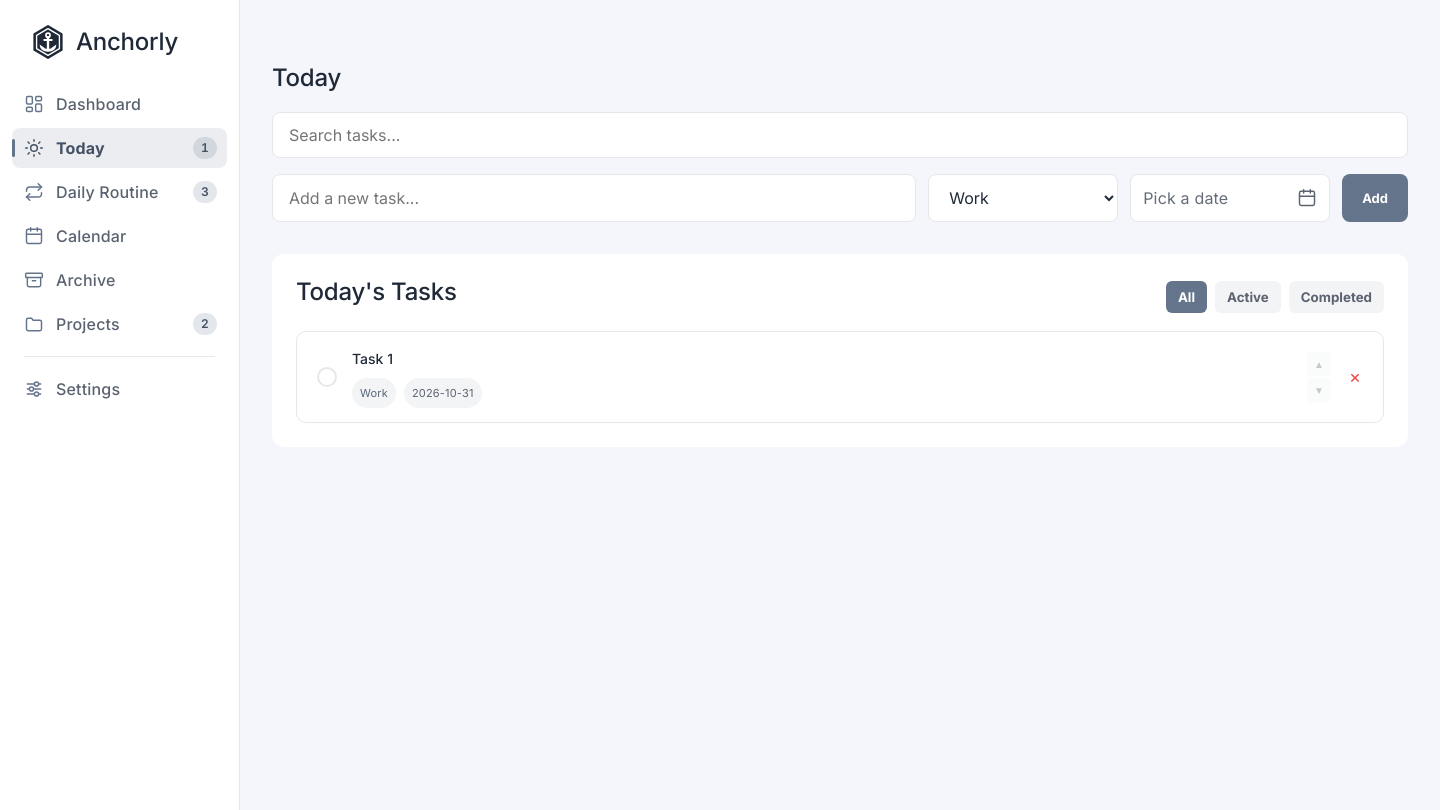
Test: App task detail dialog › closes when the Close button is pressed
What coordinates should you click on to do the following:
click the button "Task 1"
I would click on:
 (372, 359)
Its box is [352, 346, 393, 372].
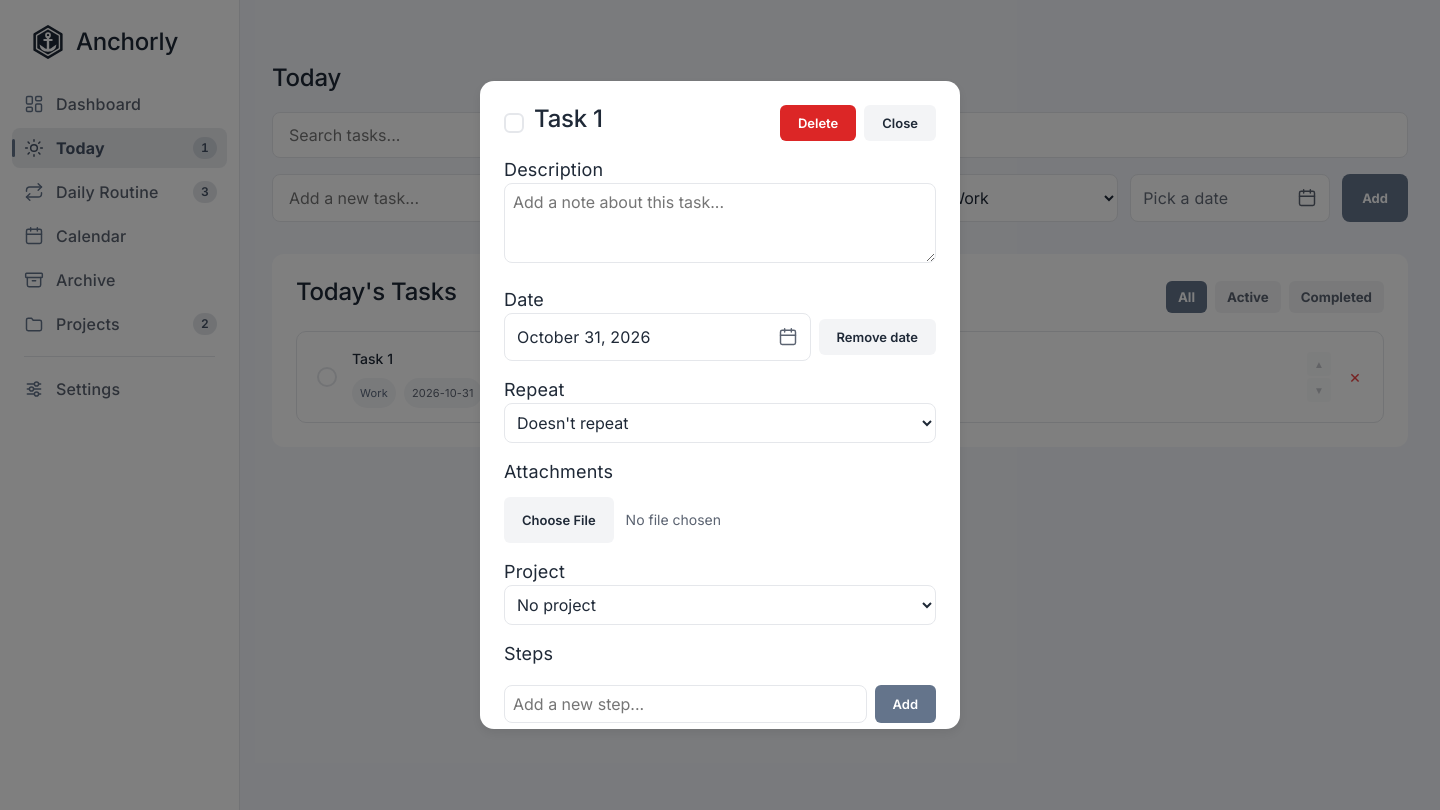
What coordinates should you click on to do the following:
click the button "Close"
I would click on:
 (900, 123)
Its box is [864, 105, 936, 141].
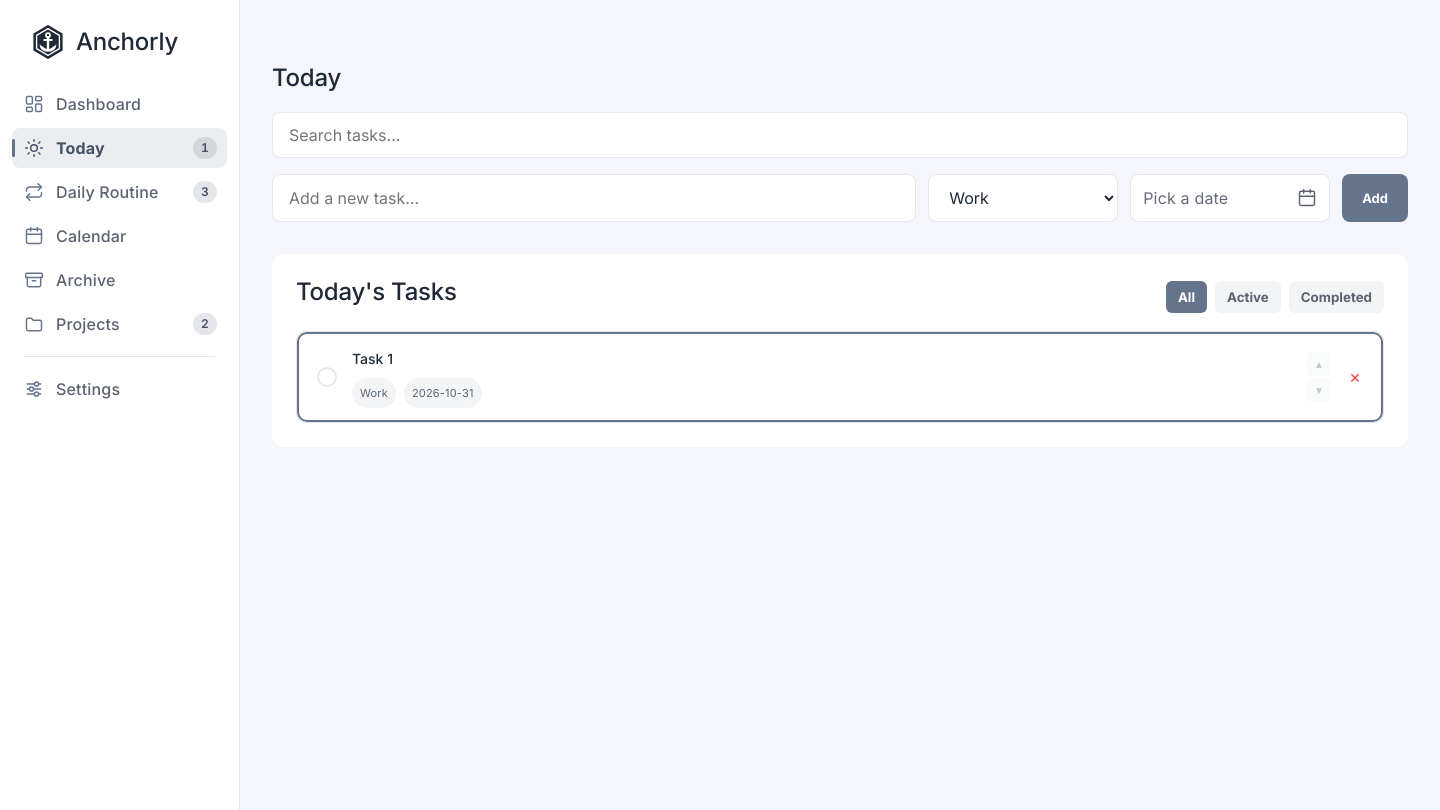
Check: the dialog is gone
